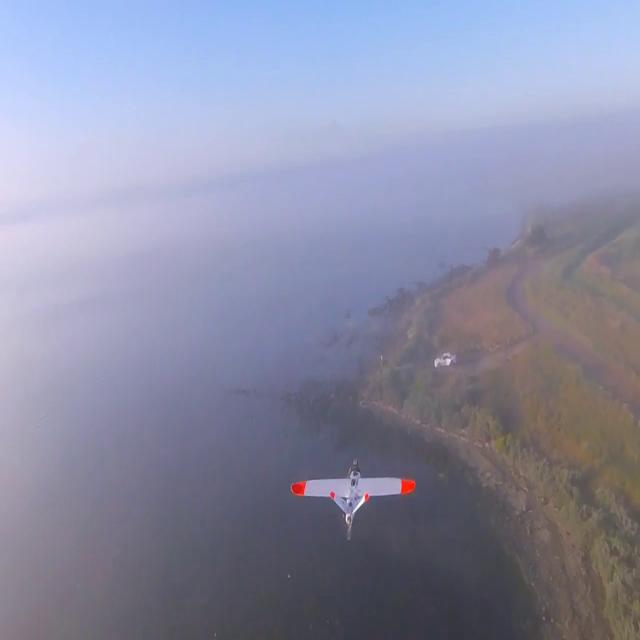iha: (323, 490, 381, 505)
